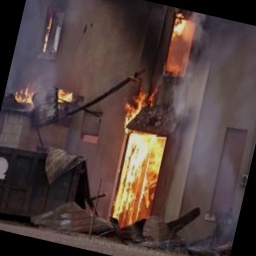fire: (109, 127, 167, 227), (160, 7, 205, 74)
